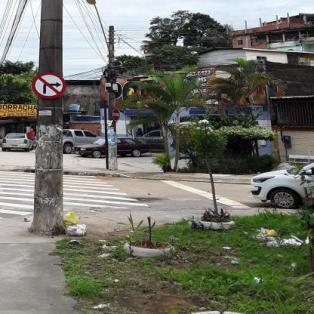Poste: (23, 0, 74, 237)
